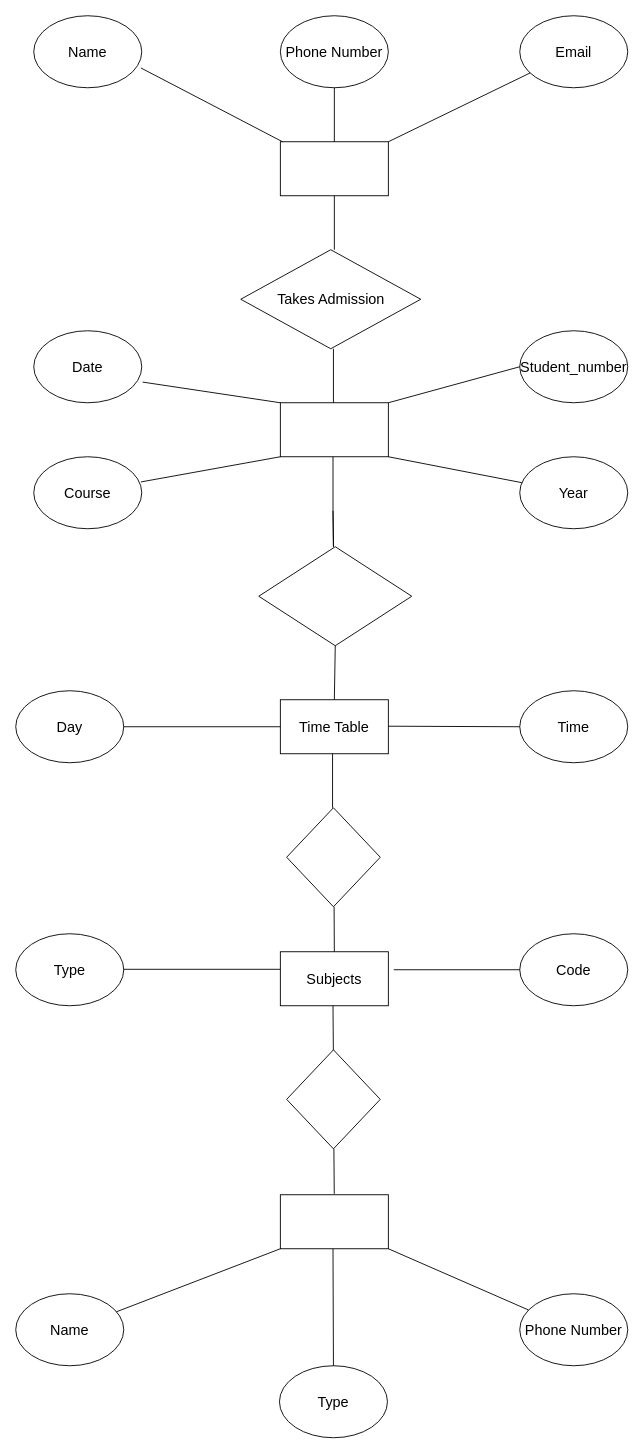
Some shapes in this 644 by 1454 pixel diagram are drawn without their labels. The centre of each missing label's shape, as x and y in pixels:
Admission: the point at 333,429
Faculty: the point at 333,1221
Get Alloted: the point at 335,596
Slots: the point at 333,857
STUDENT: the point at 333,168
Teaches: the point at 333,1099
